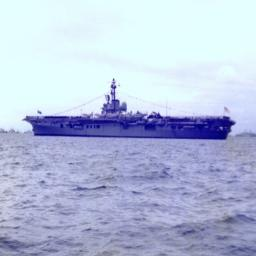Portanaves: (22, 74, 237, 141)
